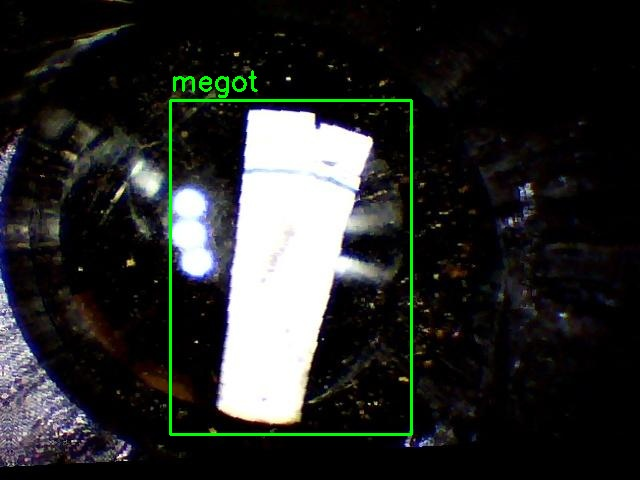megot: (170, 100, 411, 434)
